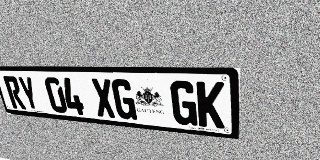0: (43, 77, 68, 114)
4: (60, 77, 85, 115)
G: (170, 81, 197, 126), (111, 79, 137, 120)
K: (196, 81, 225, 129)
R: (3, 76, 26, 109)
X: (90, 78, 117, 118)
Y: (17, 76, 41, 111)
